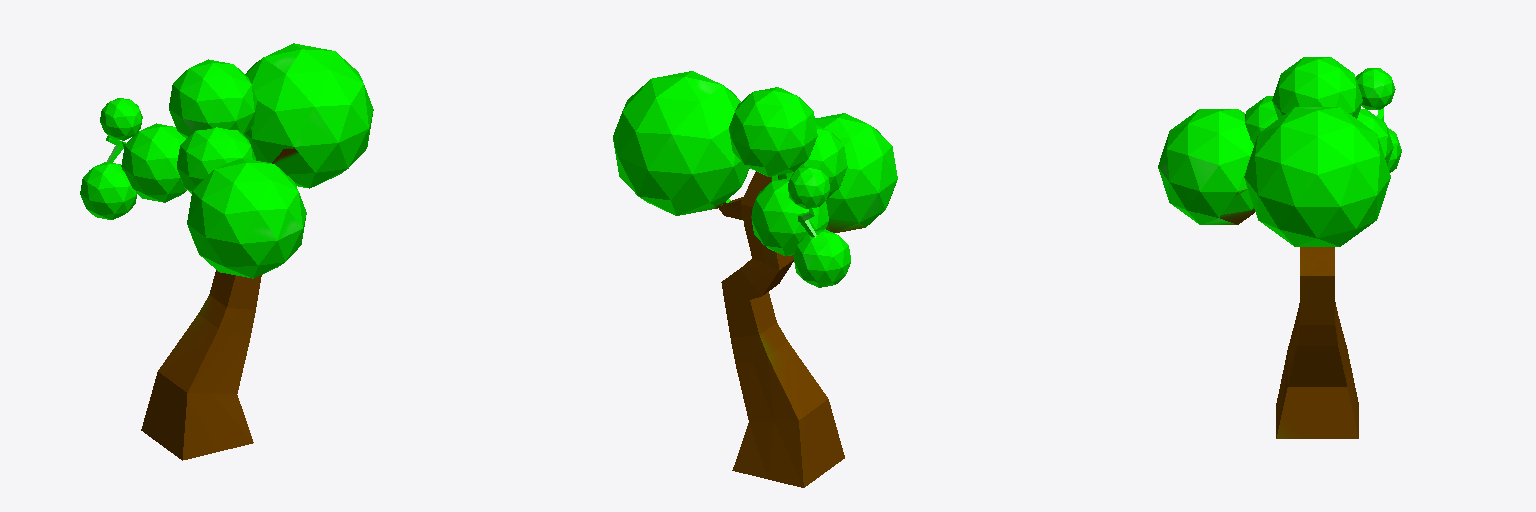
3 views of the same model, side by side, from view 1: azimuth 30°, elevation 25°; view 2: azimuth 150°, elevation 25°; view 3: azimuth 270°, elevation 25° (orthographic).
Visible parts, largest first — view 1: Cube; view 2: Cube; view 3: Cube.
Part boxes in pixels (left/top/right/bottom): Cube: left=80, top=43, right=373, bottom=460; Cube: left=613, top=71, right=897, bottom=487; Cube: left=1158, top=57, right=1401, bottom=438.
Bounding box in the file's own units: 9.71 × 13.71 × 8.21.
1 materials, 1 textured.